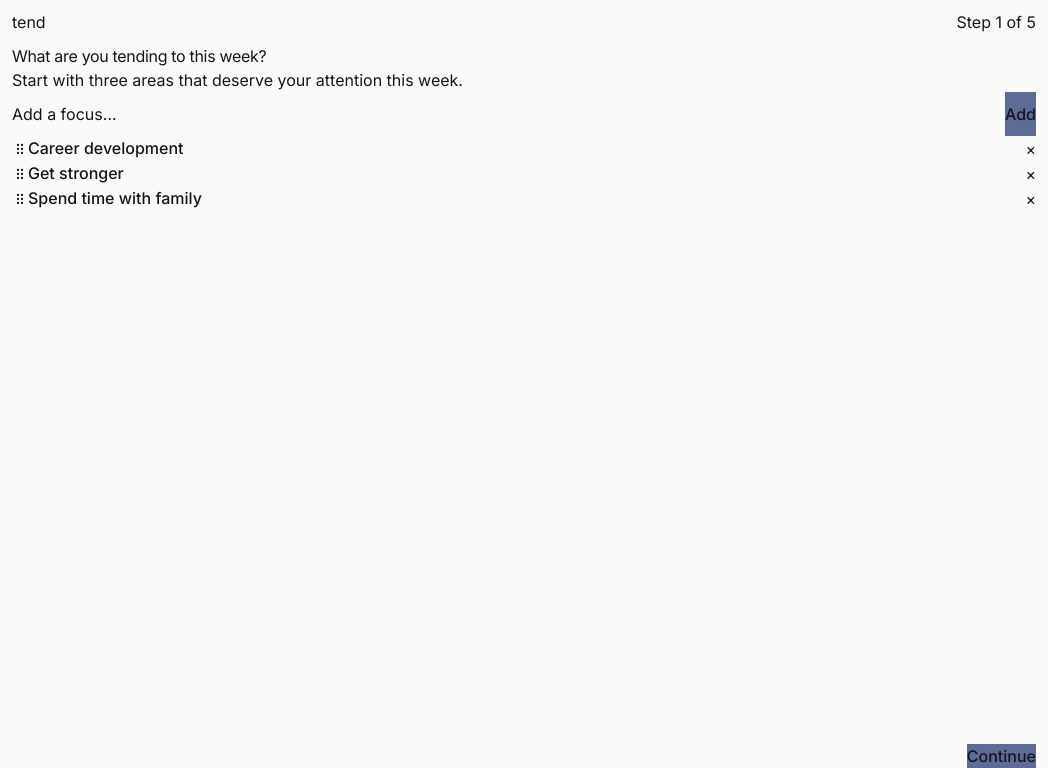
Test: TendFlow › focuses the add field when Continue opens the next step
Step 1. Click the button "Continue" → {"x": 1001, "y": 756}, box [967, 744, 1036, 767]
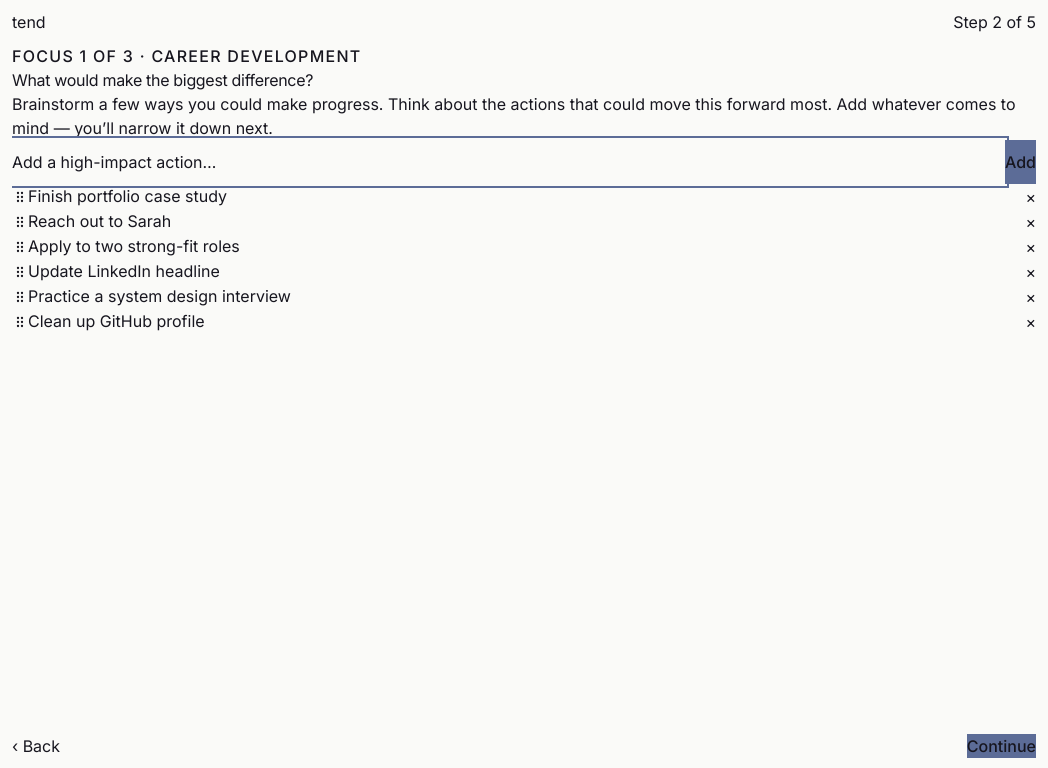
Step 2. Click the button "Continue" → {"x": 1001, "y": 746}, box [967, 734, 1036, 758]
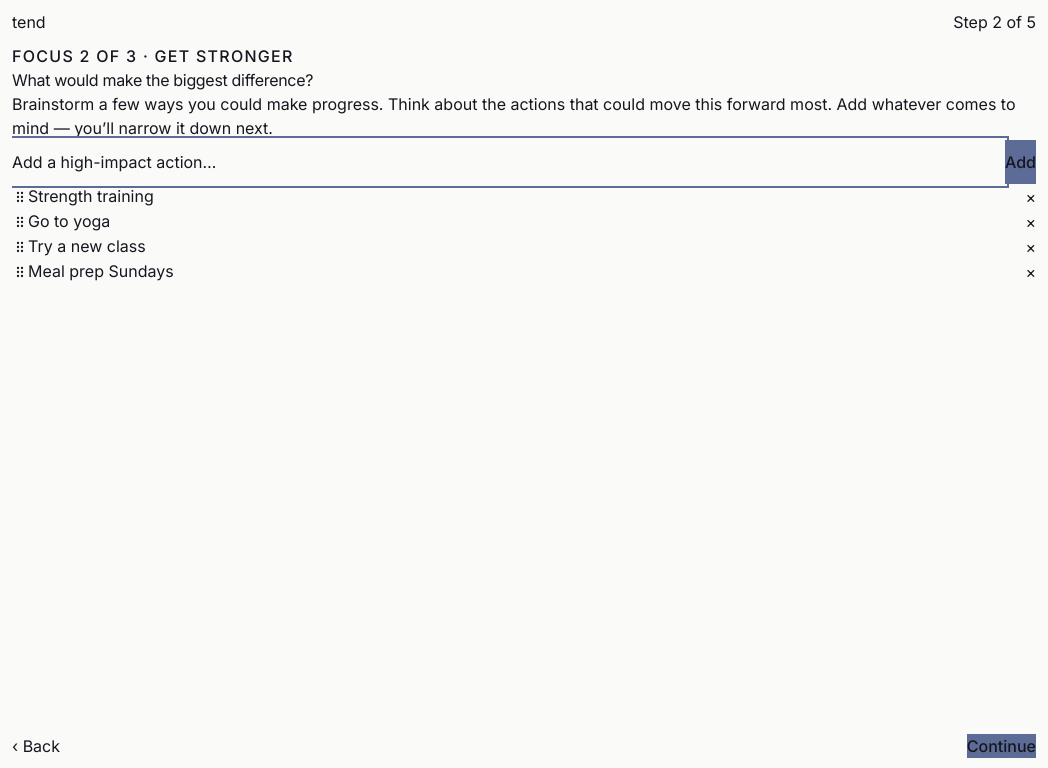
Now the text "Focus 2 of 3 · Get stronger" is shown, box [12, 44, 294, 68]
Step 3. Click the button "Continue" → {"x": 1001, "y": 746}, box [967, 734, 1036, 758]
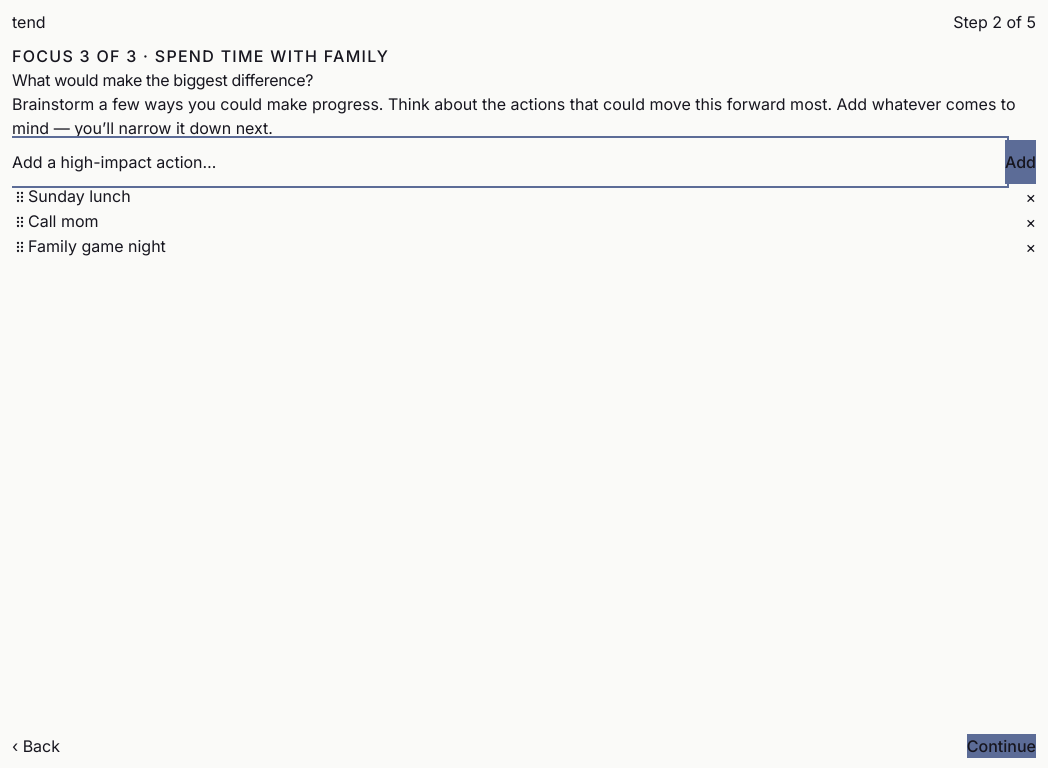
Step 4. Click the button "Continue" → {"x": 1001, "y": 746}, box [967, 734, 1036, 758]
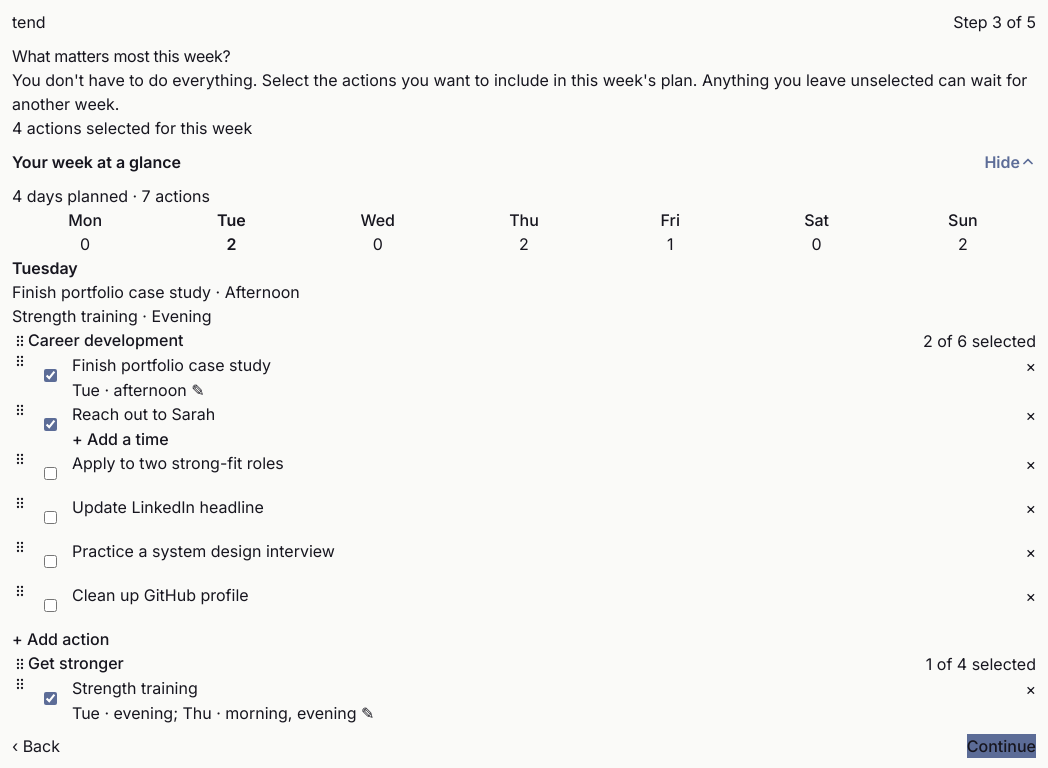
Step 5. Click the button "Continue" → {"x": 1001, "y": 746}, box [967, 734, 1036, 758]
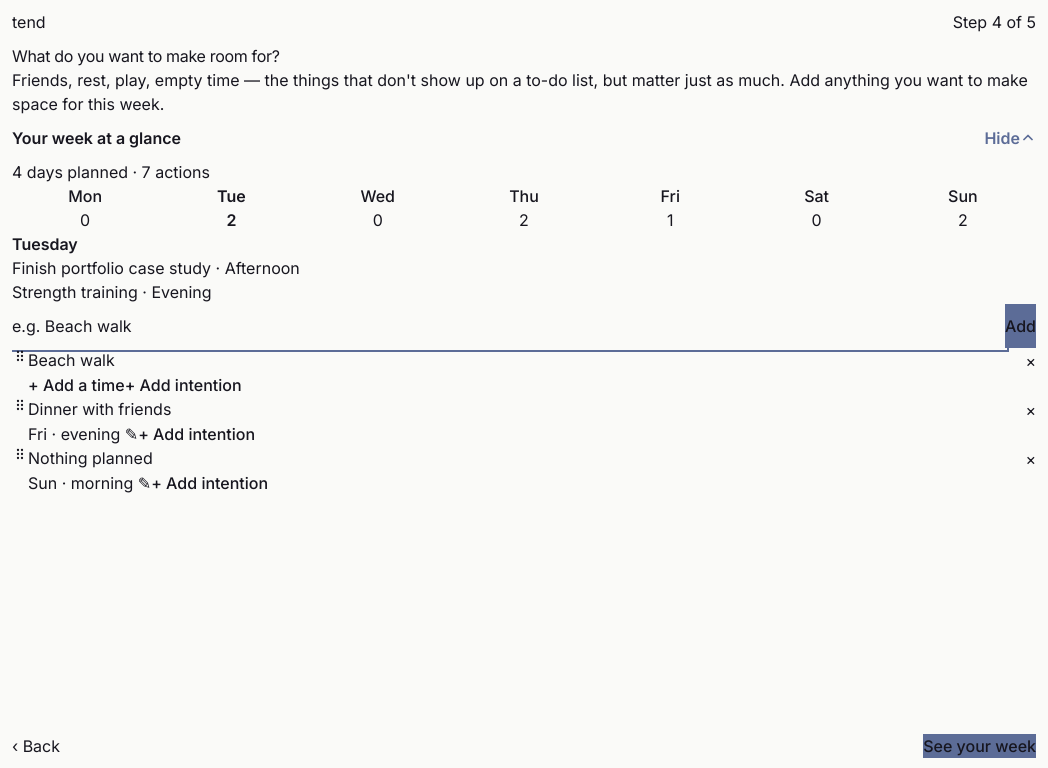
Now the heading "What do you want to make room for?" is shown, box [12, 46, 280, 66]
